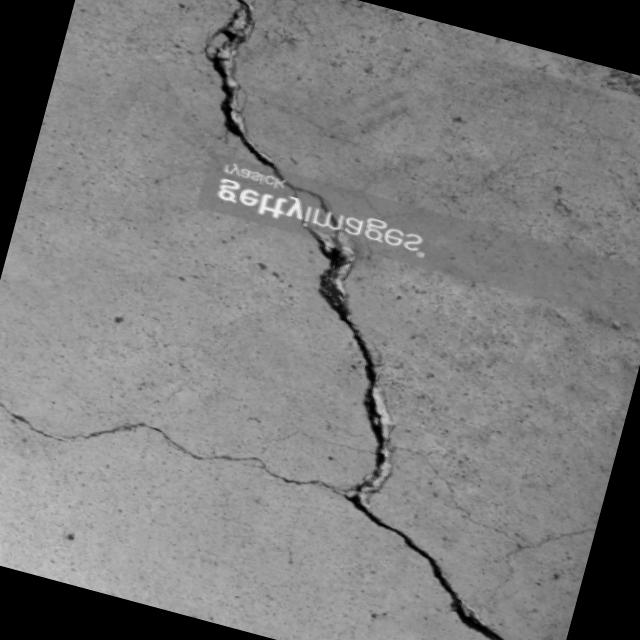crack: (82, 0, 508, 485), (0, 373, 383, 527), (341, 516, 582, 640)
